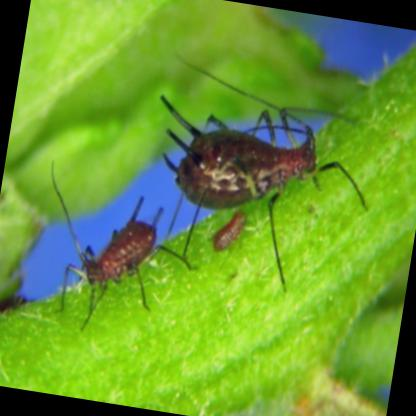uroleucon compositae: (159, 97, 318, 209), (75, 197, 162, 287)
